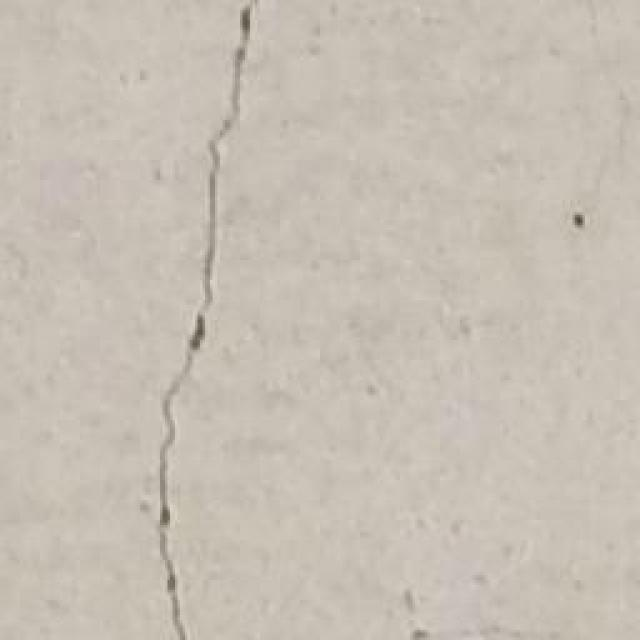concrete-crack: (158, 0, 258, 640)
